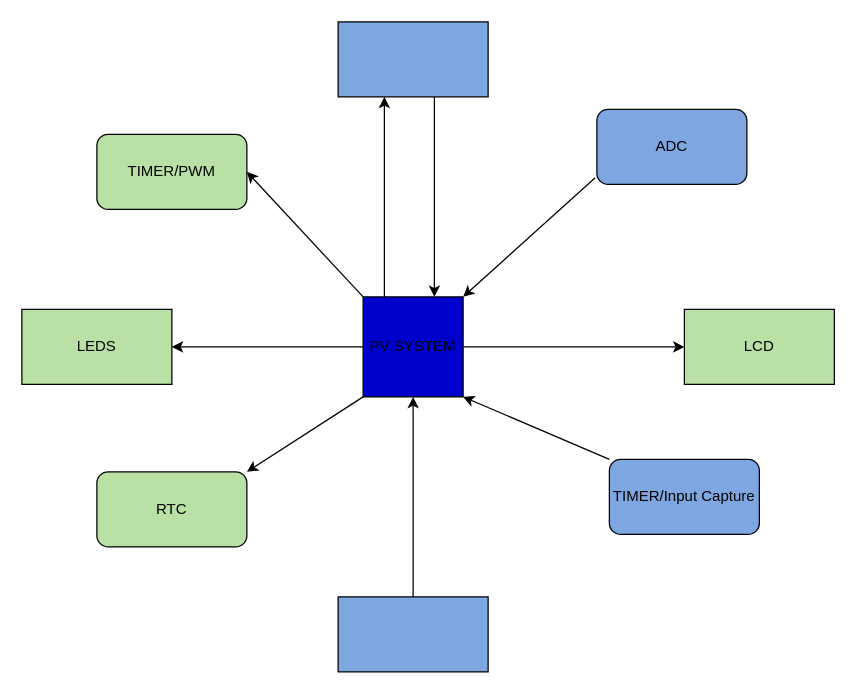
This 856x694 diagram has some shape labels left out. The shapes that lost their labels are listed below. From the top down, each one's box as (x1, y1, x2, y2) in pixels, then its label:
(337, 21, 488, 97): UART
(337, 596, 488, 672): BUTTON
